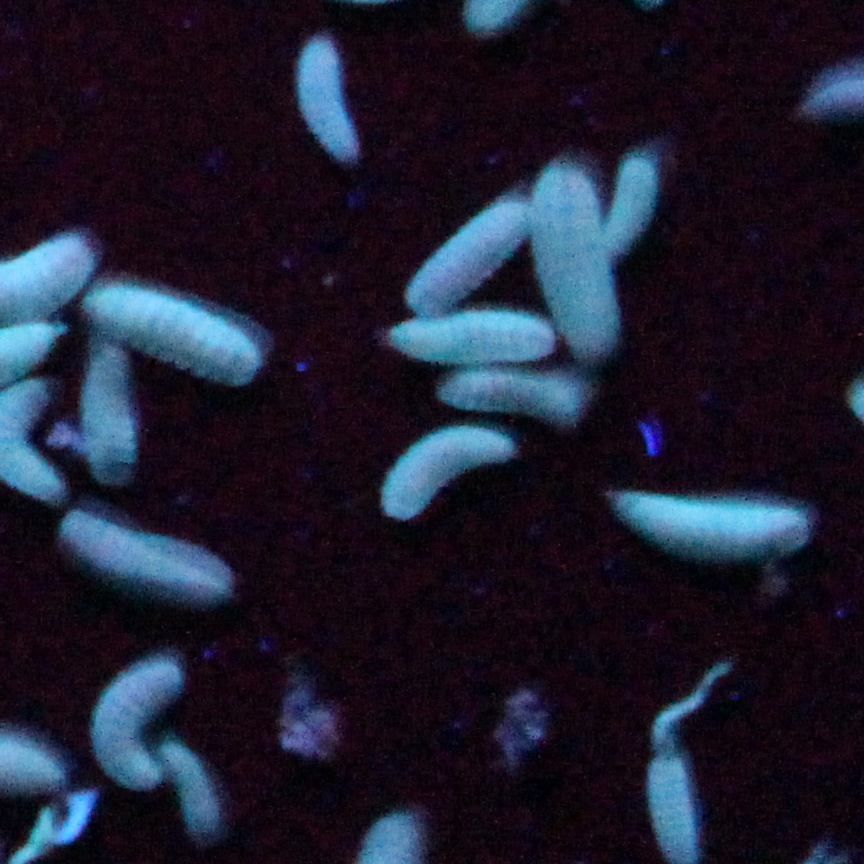larve: (82, 285, 260, 383), (532, 168, 618, 353), (67, 507, 233, 597), (406, 202, 529, 316), (613, 490, 810, 556), (381, 427, 518, 520), (90, 661, 180, 791), (390, 312, 553, 361), (440, 371, 583, 423), (299, 41, 358, 161), (81, 352, 135, 471), (162, 740, 222, 839), (599, 160, 655, 258)
